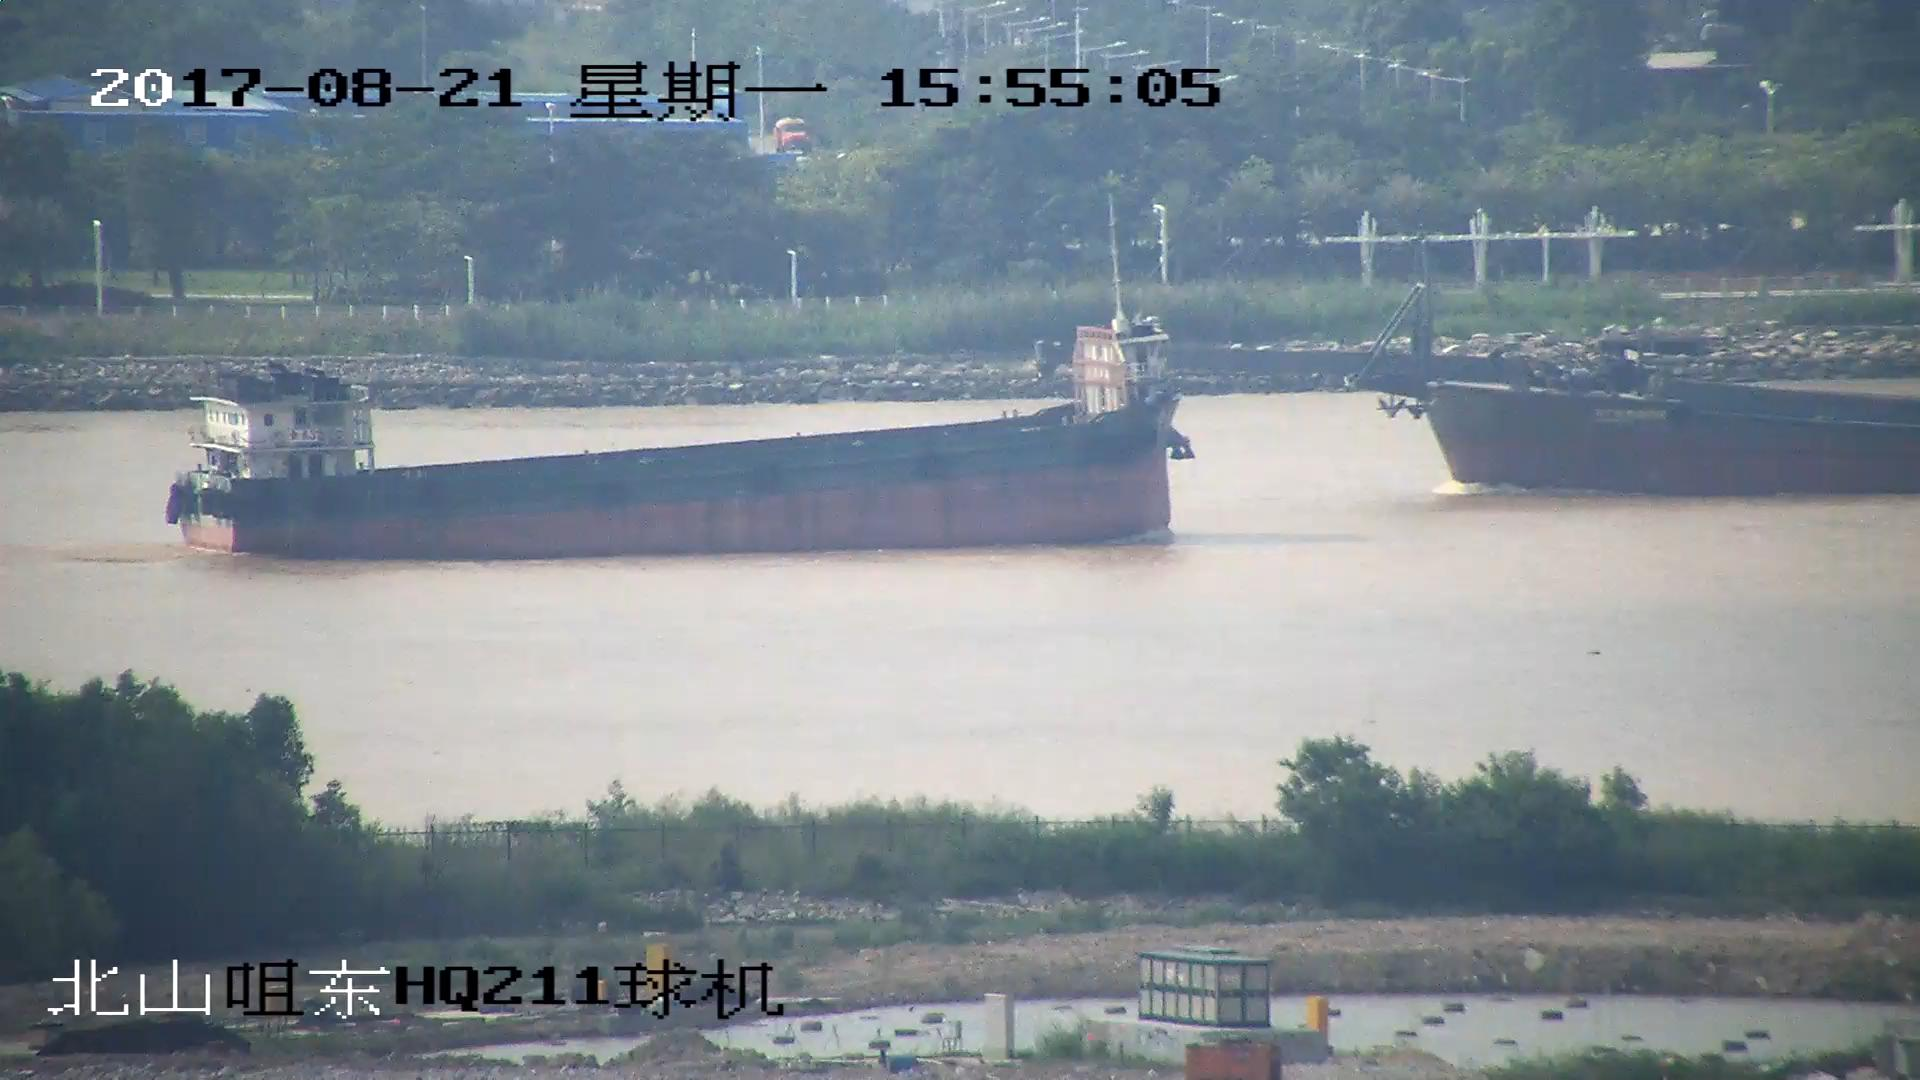bulk cargo carrier: (1041, 287, 1920, 500)
general cargo ship: (171, 310, 1193, 563)
